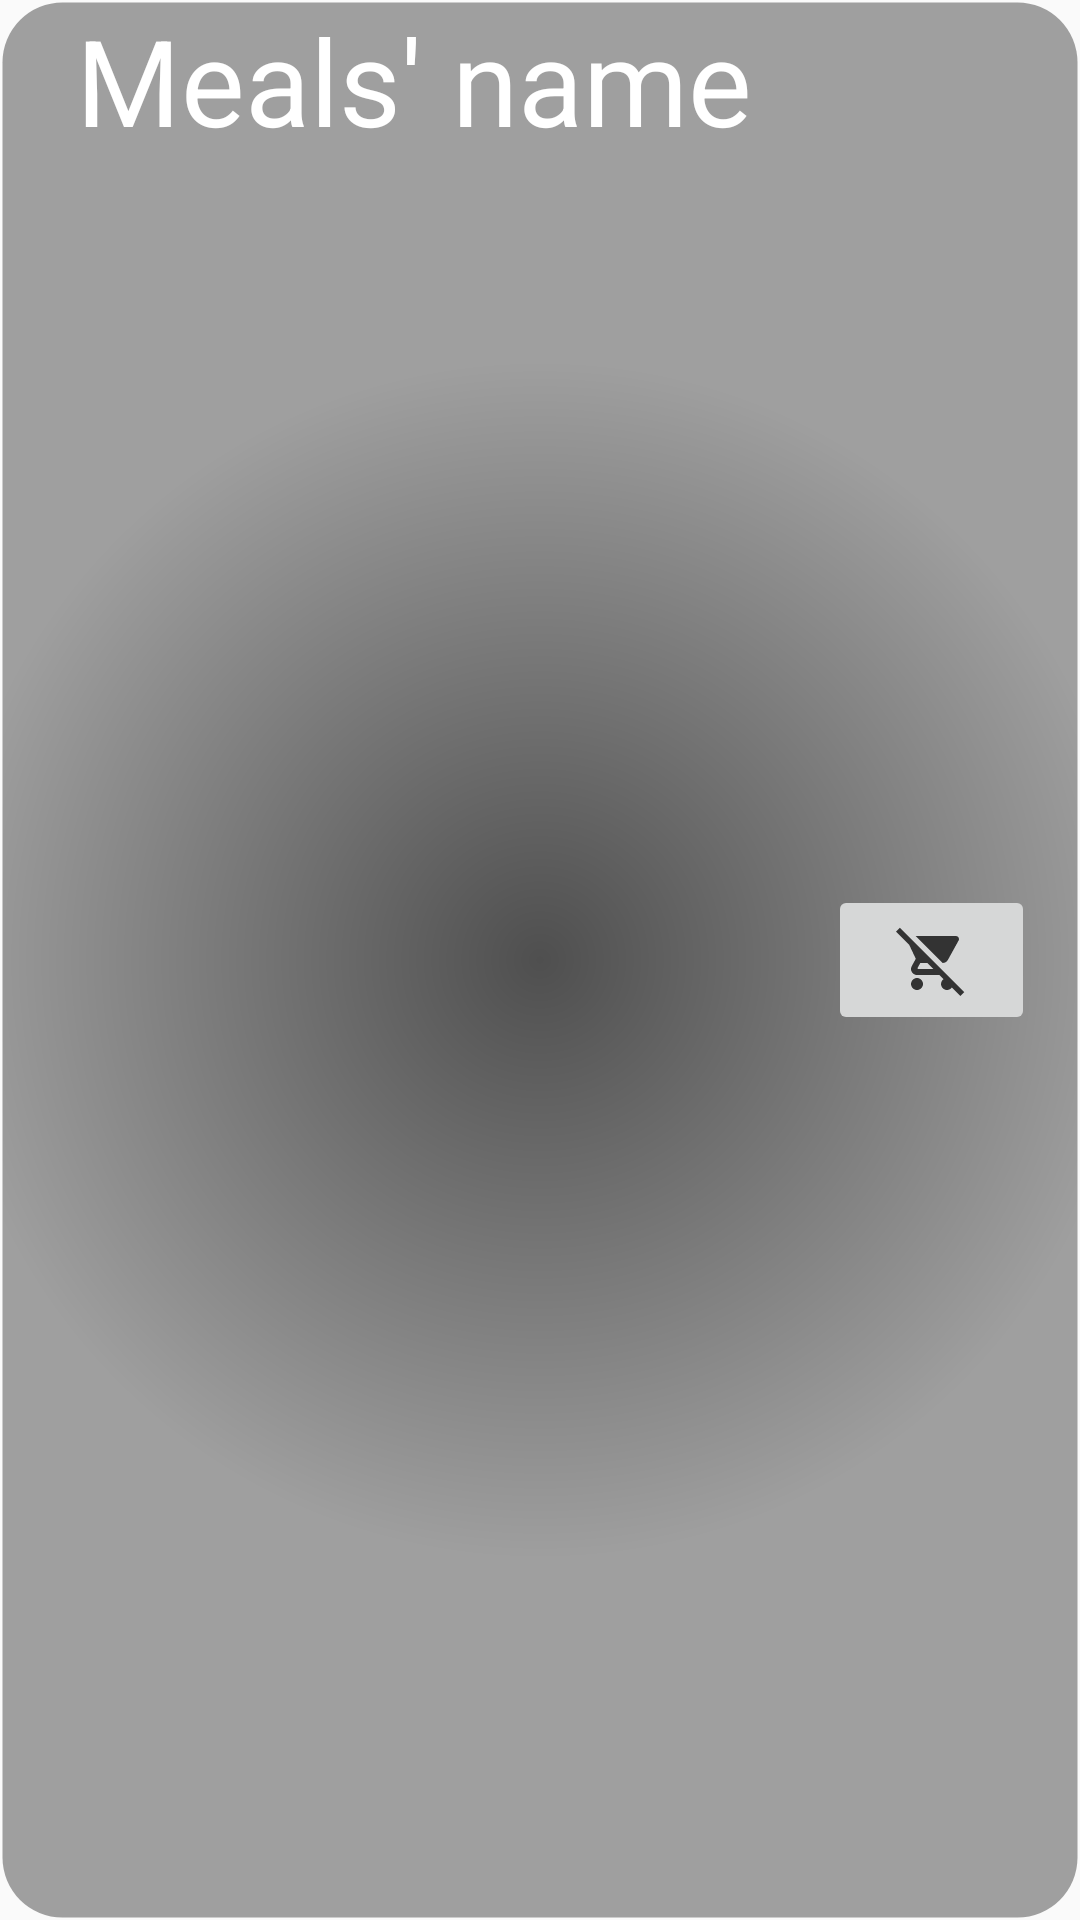

Where icons sit on this 1080 × 1920 app screen, as bbox=[x1, y1, x2, y2]:
remove: bbox=[828, 885, 1023, 1035]
